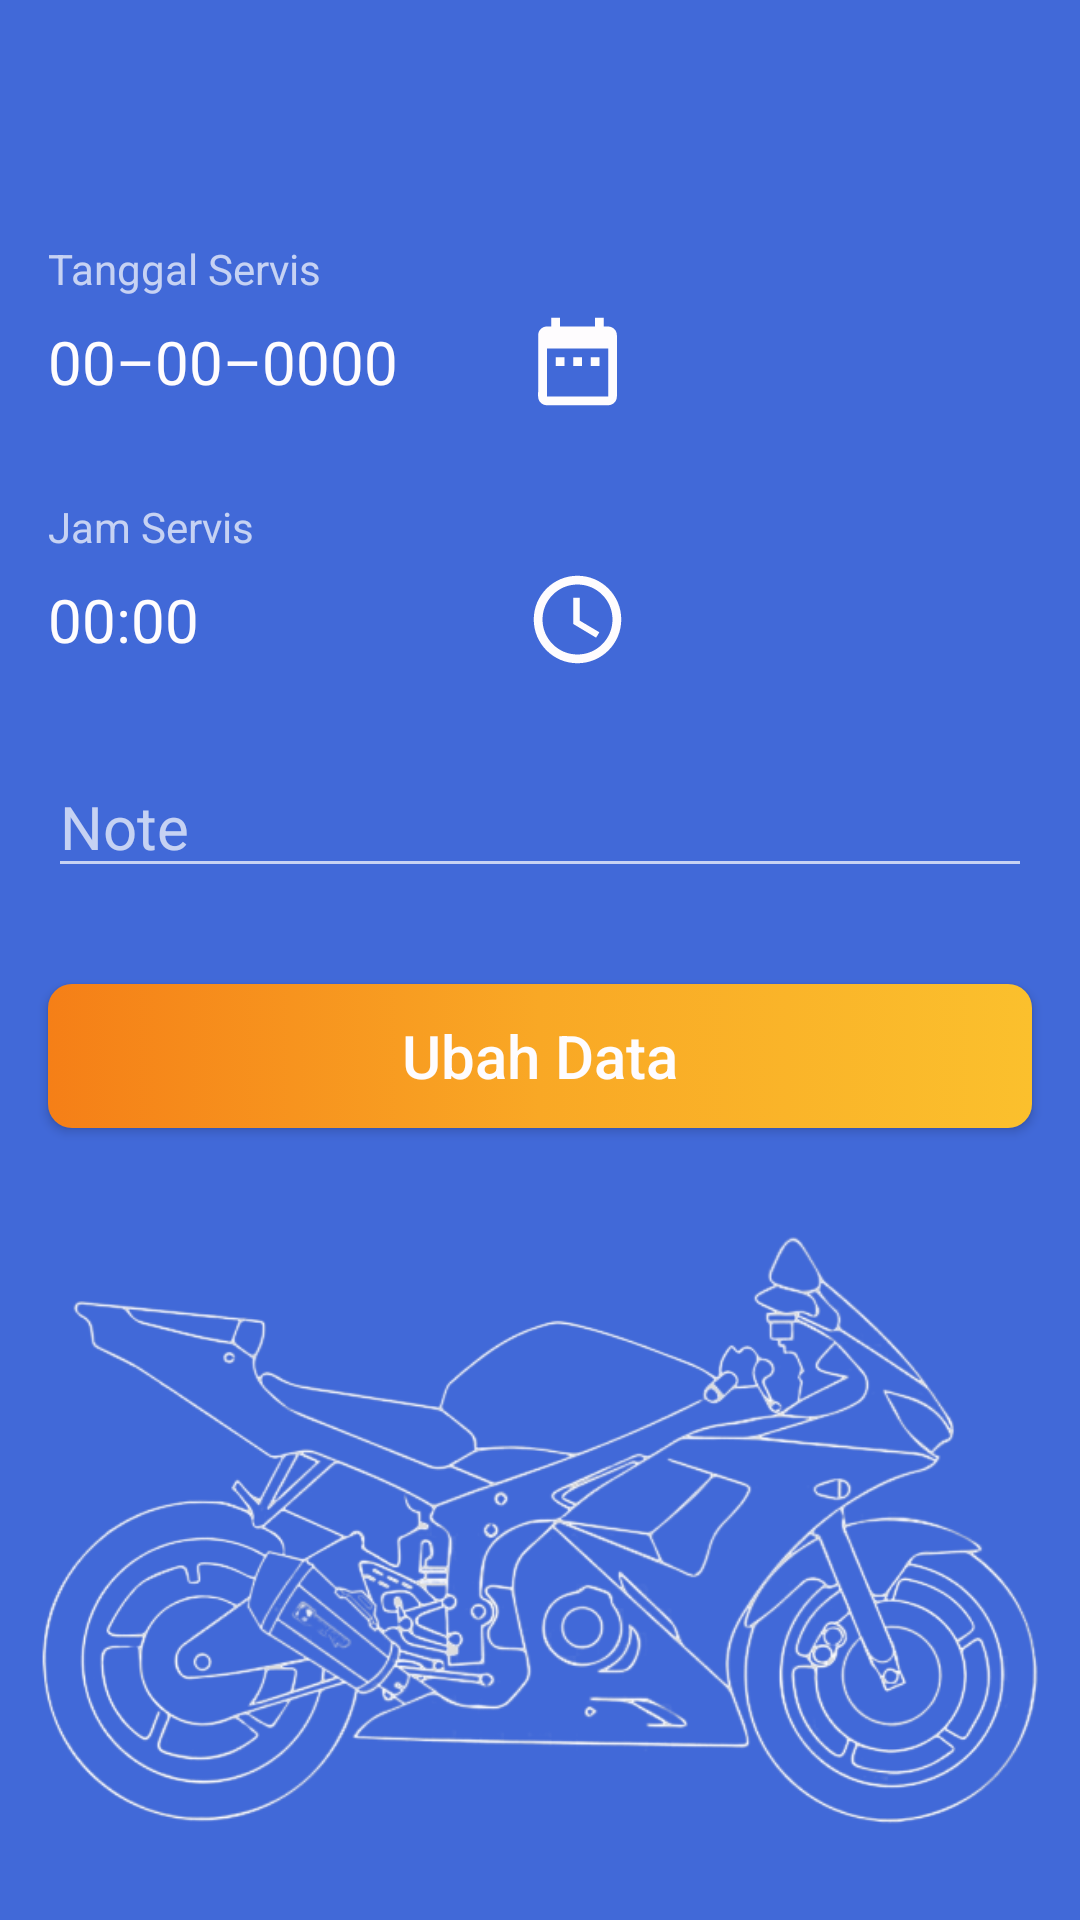

Where icons sit on this 1080x1920 app screen, as (x1, y1, x2, y2):
access time: (533, 575, 622, 664)
date range: (538, 317, 617, 406)
